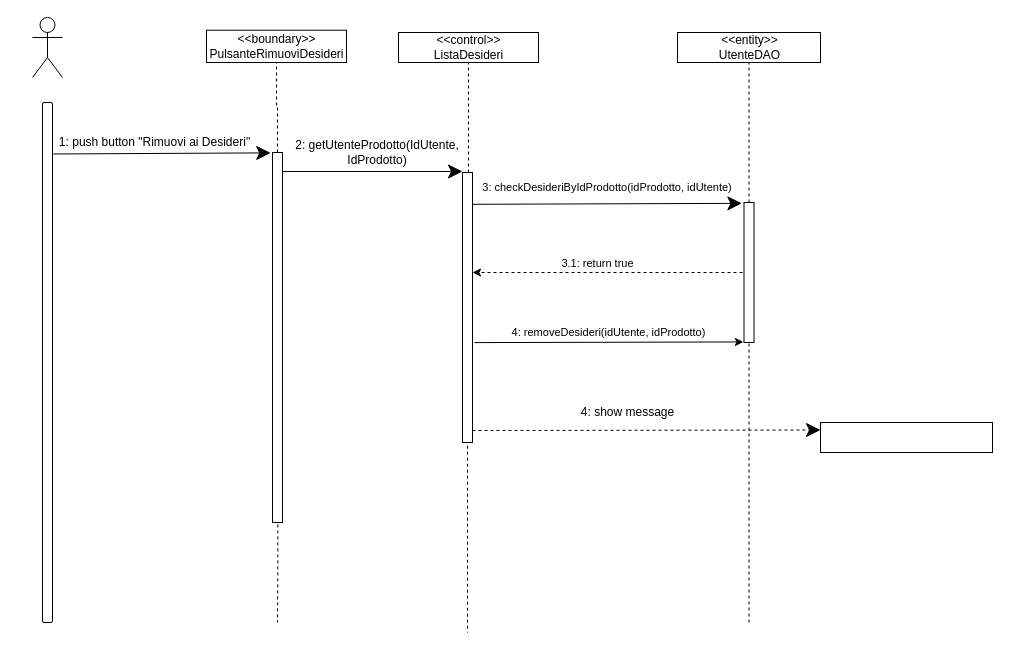
Image size: 1010x651. Some labels were removed from this diagram. Here are the shapes that lost their labels. From the top down, the centre of each, then its label:
pixel 47 47: Utente
pixel 906 437: <<boundary>> NotificaRimuoviDesideri
